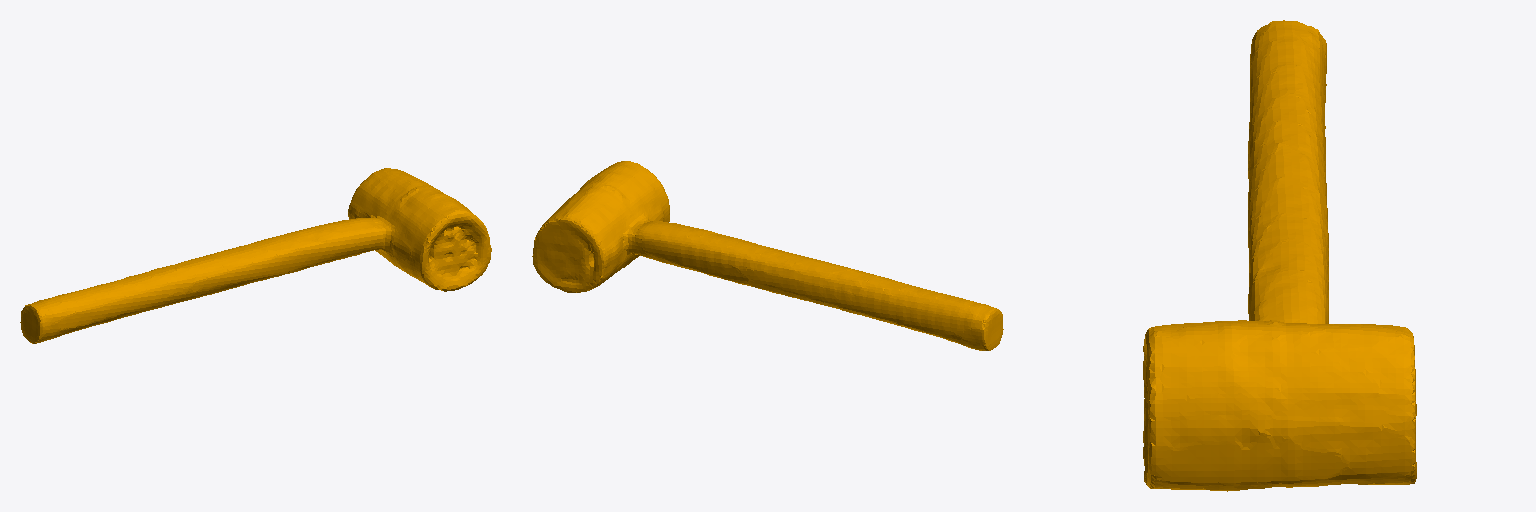
URDF robot description (model.urdf):
<?xml version="1.0" ?>
        <robot name="model.urdf">
        <link name="baseLink">
            <contact>
                <lateral_friction value="0.8"/>
                <rolling_friction value="0.001"/>g
                <contact_cfm value="0.0"/>
                <contact_erp value="1.0"/>
            </contact>
            <inertial>
                <origin xyz="0.1 0.0 0.0" rpy="0 0 0"/>
                <mass value="0.333"/>
                <inertia ixx="0.001" ixy="0" ixz="0" iyy="0.001" iyz="0" izz="0.001"/>
            </inertial>
            <visual>
            <geometry>
                <mesh filename="mallet.obj" scale="1 1 1"/>
            </geometry>
            <!-- The following material makes the object white in Isaac Gym, so we comment it out. -->
            <!-- <material name="white"> <color rgba="1. 1. 1. 1."/> </material> -->
            </visual>
            <collision>
            <geometry>
                <mesh filename="mallet.obj" scale="1 1 1"/>
            </geometry>
            </collision>
        </link>
        </robot>

--- Facts derived from the render (not from the file) ---
3 views of the same robot in one strip: view 1: azimuth 30°, elevation 25°; view 2: azimuth 150°, elevation 25°; view 3: azimuth 270°, elevation 25° (orthographic).
Robot: model.urdf — 1 links, 0 joints (none); root link baseLink; default pose: all joints at 0.
Visible links, largest first — view 1: baseLink; view 2: baseLink; view 3: baseLink.
Boxes of the visible links, bbox=[...] form: baseLink: bbox=[20, 168, 491, 343]; baseLink: bbox=[532, 161, 1003, 350]; baseLink: bbox=[1143, 20, 1416, 491].
Bounding box of the posed robot: 0.2972 × 0.0869 × 0.0536 m (x, y, z).
1 mesh visuals loaded from 1 distinct referenced files (1 OBJ).
